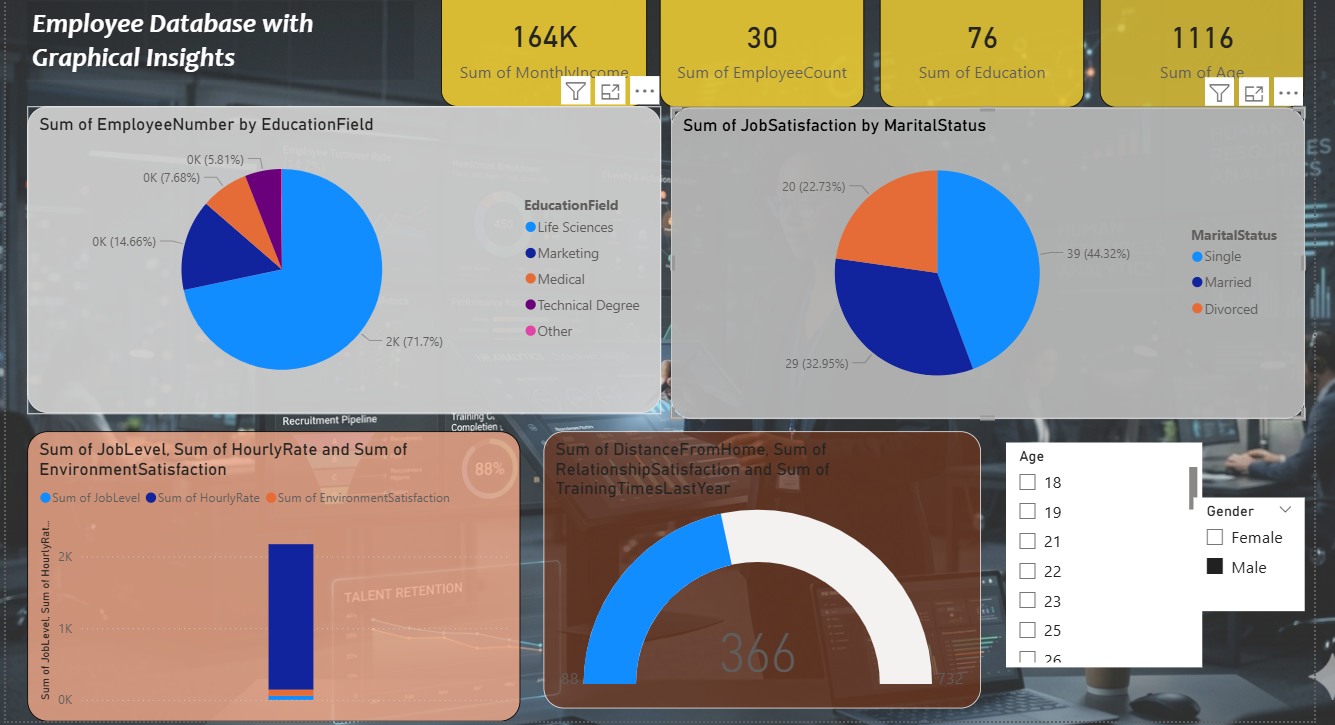

The dashboard page shown, as its layout file describes it:
{"tool":"powerbi","page":{"name":"Page 4","canvas":[1280,720],"ordinal":3},"visuals":[{"type":"card","fields":{"Values":["Sum(IBM DataSet.Age)"]},"box":[1070,0,200,120],"z":0},{"type":"card","fields":{"Values":["Sum(IBM DataSet.Education)"]},"box":[854.3,0,200,120],"z":1000},{"type":"card","fields":{"Values":["Sum(IBM DataSet.EmployeeCount)"]},"box":[640,0,200,120],"z":2000},{"type":"card","fields":{"Values":["Sum(IBM DataSet.MonthlyIncome)"]},"box":[425.4,0,201.7,119.4],"z":3000},{"type":"pieChart","fields":{"Y":["Sum(IBM DataSet.EmployeeNumber)"],"Category":["IBM DataSet.EducationField"]},"box":[20.3,118.9,620.3,300],"z":4000},{"type":"ribbonChart","fields":{"Y":["Sum(IBM DataSet.JobLevel)","Sum(IBM DataSet.HourlyRate)","Sum(IBM DataSet.EnvironmentSatisfaction)"]},"box":[20.3,436.5,482.4,283.8],"z":5000},{"type":"gauge","fields":{"Y":["Sum(IBM DataSet.DistanceFromHome)"],"MinValue":["Sum(IBM DataSet.RelationshipSatisfaction)"]},"box":[525.8,436.6,428,271.5],"z":6000},{"type":"donutChart","fields":{"Y":["Sum(IBM DataSet.JobSatisfaction)"],"Category":["IBM DataSet.MaritalStatus"]},"box":[660.8,132.4,618.9,304.1],"z":7000},{"type":"textbox","box":[20.3,16.2,378.4,77],"z":8000},{"type":"slicer","fields":{"Values":["IBM DataSet.Age"]},"box":[978.3,447.6,192,220.1],"z":9000},{"type":"slicer","fields":{"Values":["IBM DataSet.Gender"]},"box":[1161.7,501.4,108.8,111.3],"z":10000}]}

Visuals, with their boxes in screenshot pixels (x1, y1, x2, y2):
card - Sum(IBM DataSet.Age): (1104,0,1310,103)
card - Sum(IBM DataSet.Education): (881,0,1088,103)
card - Sum(IBM DataSet.EmployeeCount): (660,0,867,103)
card - Sum(IBM DataSet.MonthlyIncome): (439,0,647,102)
pieChart - Sum(IBM DataSet.EmployeeNumber) x IBM DataSet.EducationField: (21,102,661,411)
ribbonChart - Sum(IBM DataSet.JobLevel) x Sum(IBM DataSet.HourlyRate): (21,430,519,722)
gauge - Sum(IBM DataSet.DistanceFromHome) x Sum(IBM DataSet.RelationshipSatisfaction): (543,430,984,710)
donutChart - Sum(IBM DataSet.JobSatisfaction) x IBM DataSet.MaritalStatus: (682,116,1320,430)
textbox: (21,0,411,75)
slicer - IBM DataSet.Age: (1009,441,1208,668)
slicer - IBM DataSet.Gender: (1199,496,1311,611)
